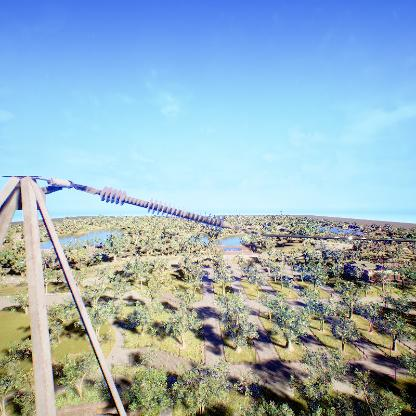insulator: (98, 184, 227, 233)
